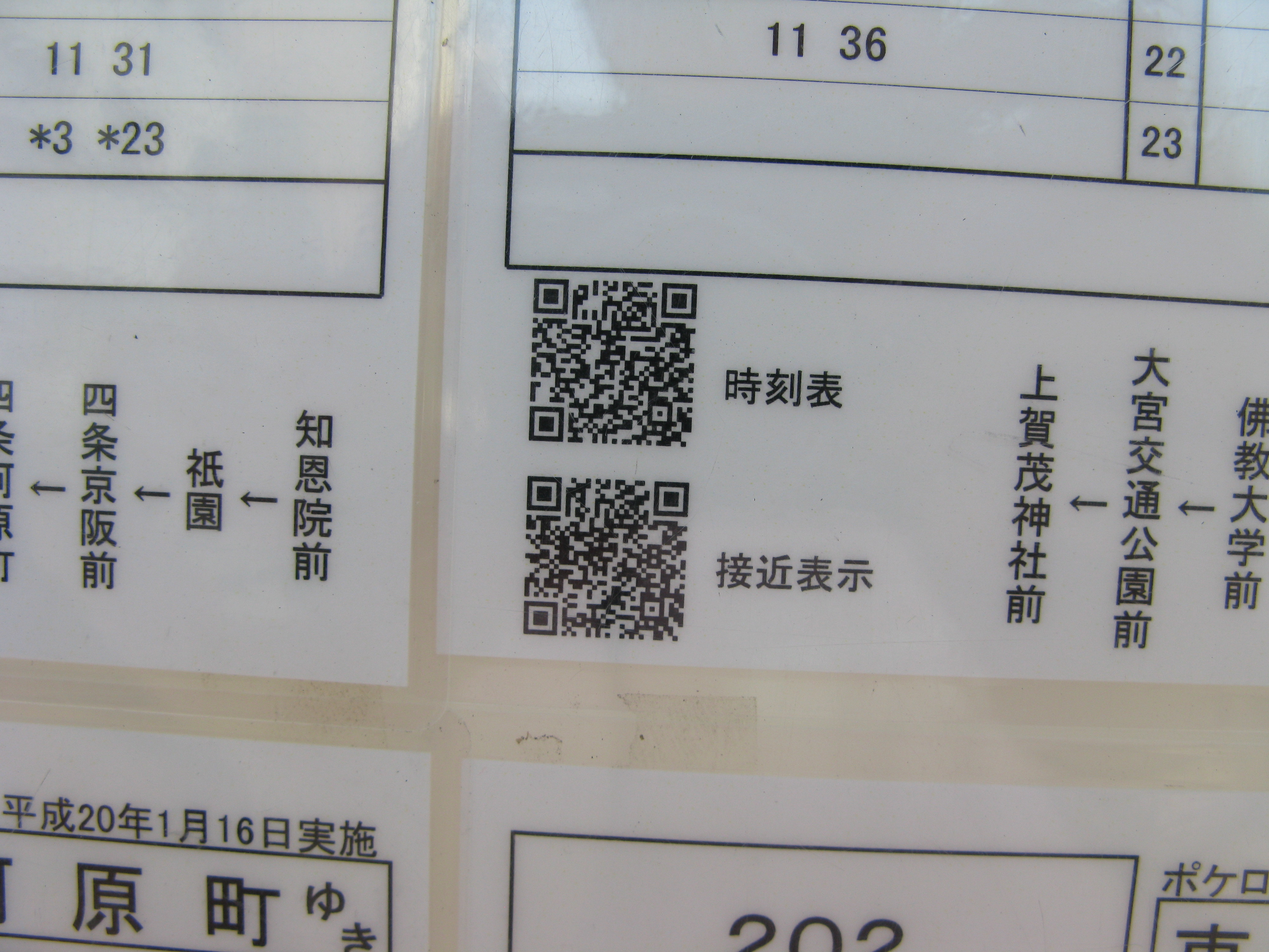QR-CODE: (529, 278, 697, 447), (523, 476, 689, 642)
